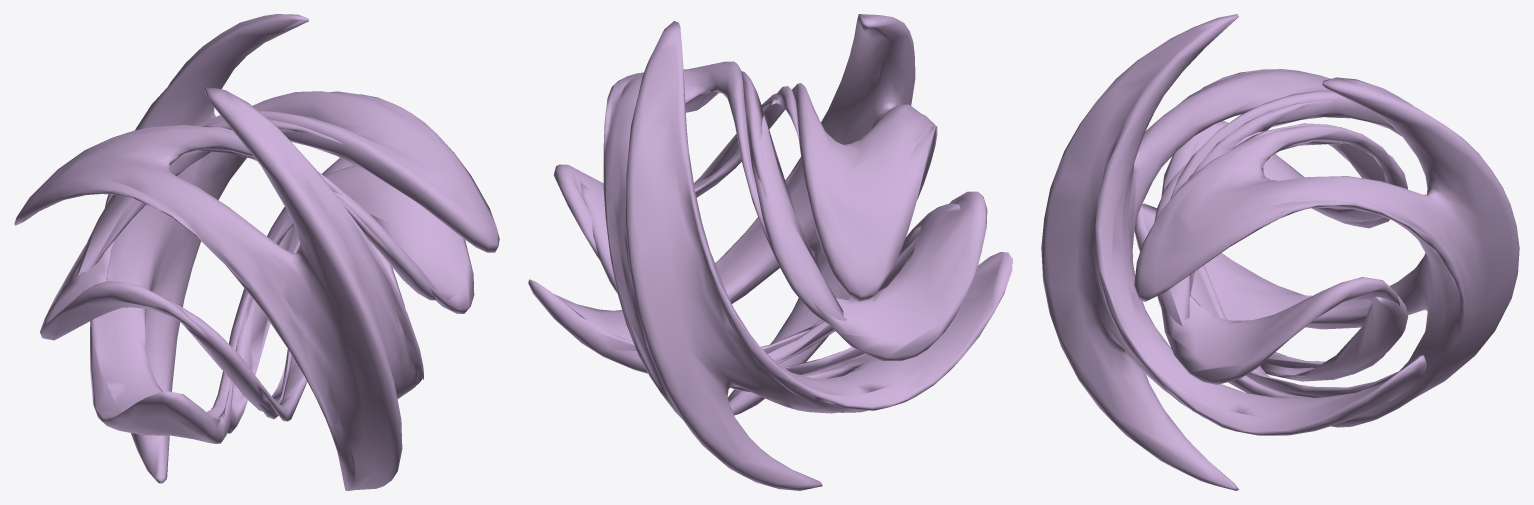
3 views of the same model, side by side, from view 1: azimuth 30°, elevation 25°; view 2: azimuth 150°, elevation 25°; view 3: azimuth 270°, elevation 25° (orthographic). The views are drawn at different scales.
Visible parts, largest first — view 1: Torus; view 2: Torus; view 3: Torus.
Part boxes in pixels (x1=…): Torus: x1=14, y1=14, x2=499, y2=490; Torus: x1=528, y1=14, x2=1012, y2=490; Torus: x1=1041, y1=14, x2=1519, y2=490.
Size of what is drawn, in the model's own units: 2.51 by 2.58 by 2.73.
